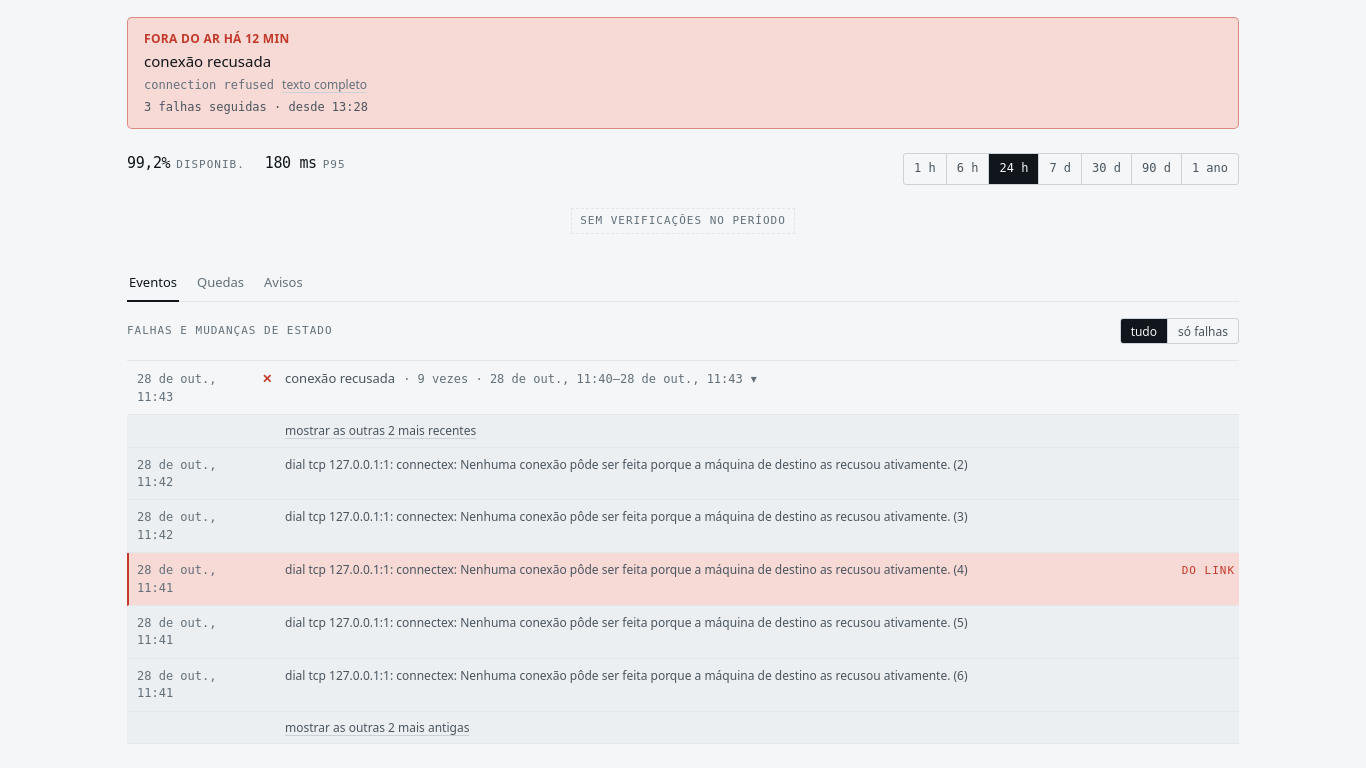
Scenario: MonitorDetail: falhas repetidas › aberto pelo link, mostra só a vizinhança da falha, com o resto a um clique
(page scrolled)
Expected: the button "9 vezes" is shown, [285,369,1235,389]
Step 1. Click the button "mostrar as outras 2 mais recentes" → {"x": 381, "y": 431}, box [285,422,476,440]
(page scrolled)
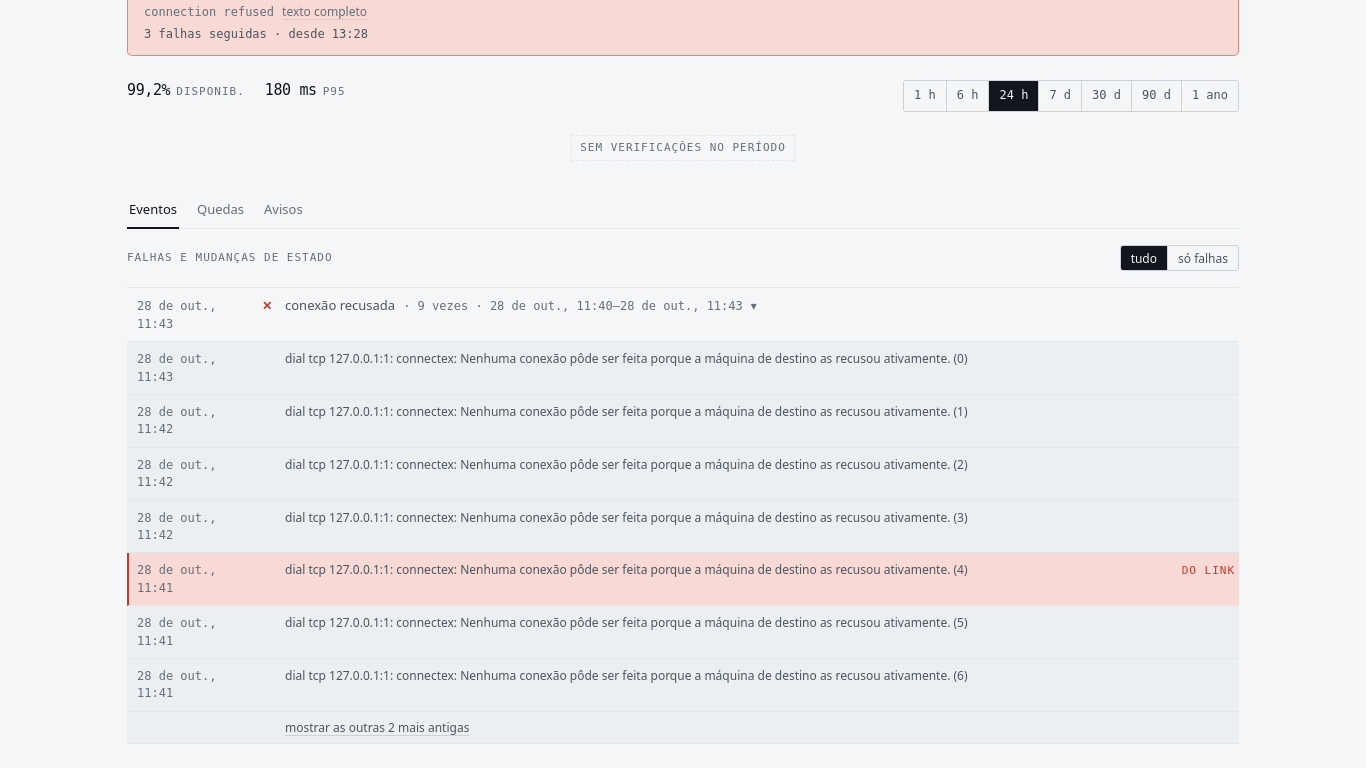
Step 2. Click the button "mostrar as outras 2 mais antigas" → {"x": 377, "y": 727}, box [285,719,469,736]
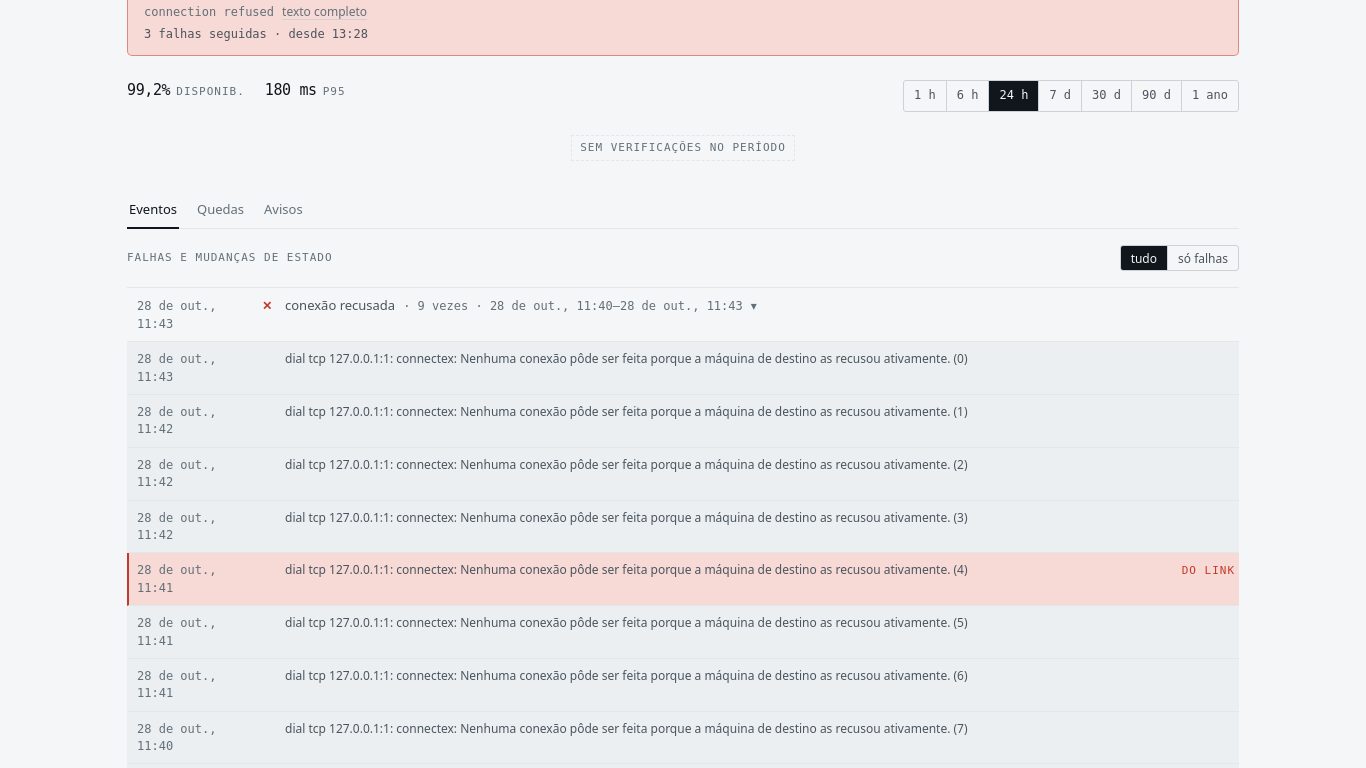
Expected: the button "mostrar as outras" is gone
